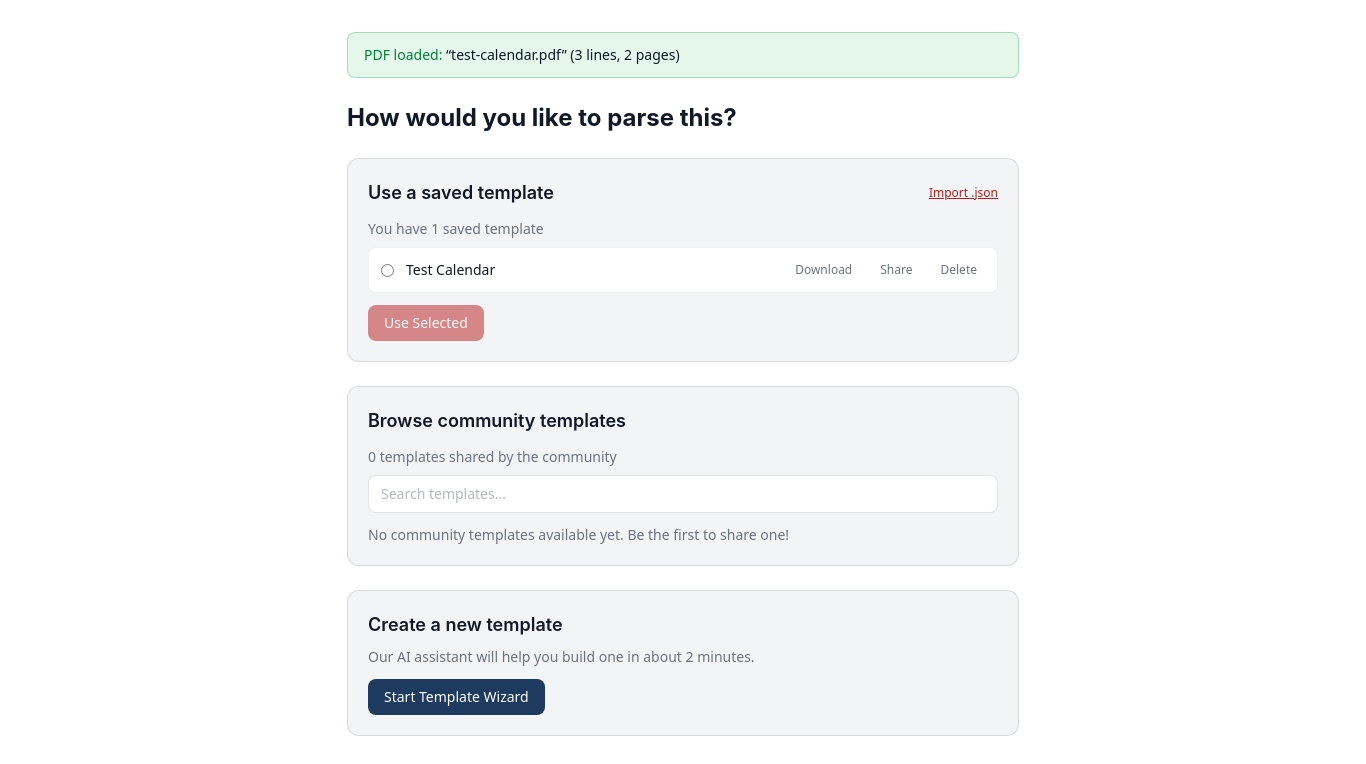
Test: TemplateSelectionPage › shows share modal when Share button is clicked
The width and height of the screenshot is (1366, 764).
Click the button with aria-label "Share Test Calendar".
click(896, 270)  # box [872,256,920,284]
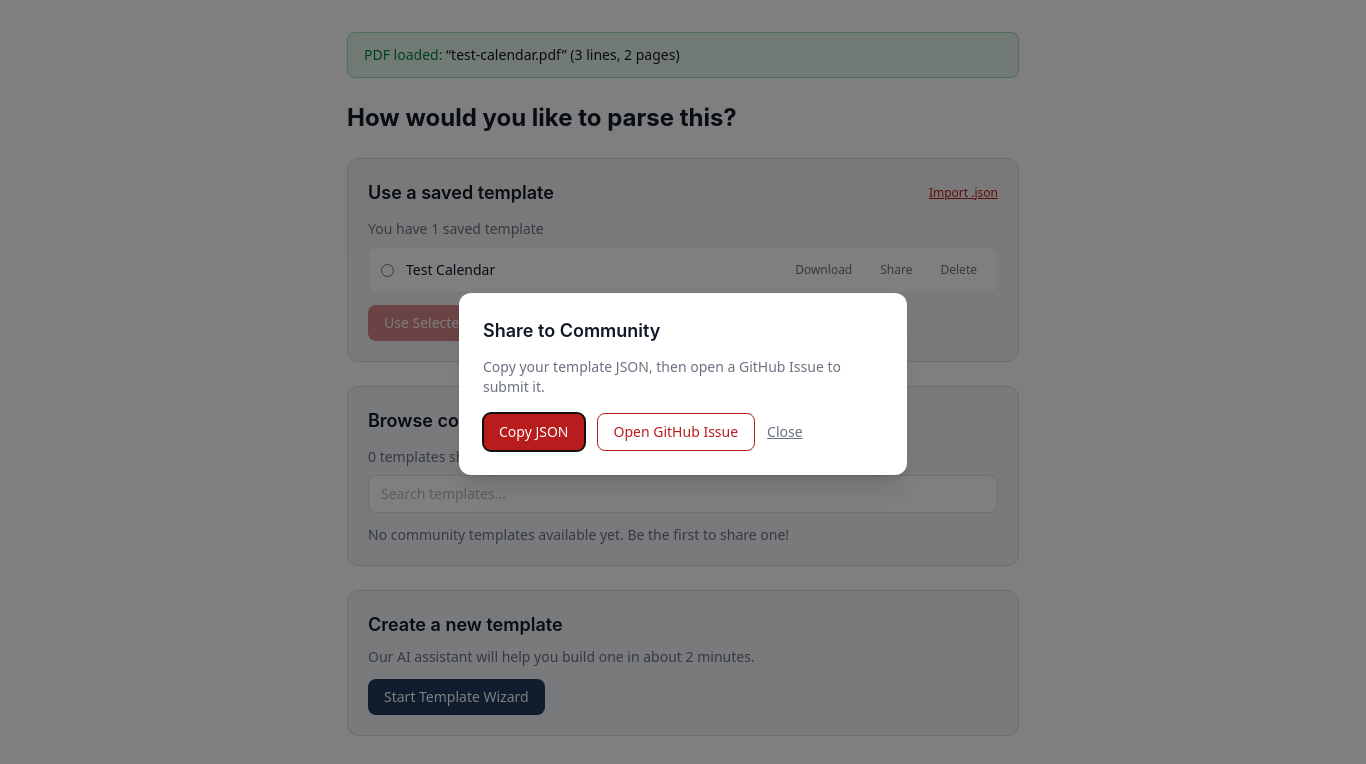
Check: the heading "Share to Community" is shown, box [483,320,660,341]
Check: the button "Copy JSON" is shown, box [483,413,584,451]
Check: the link "Open GitHub Issue" is shown, box [596,413,755,451]
